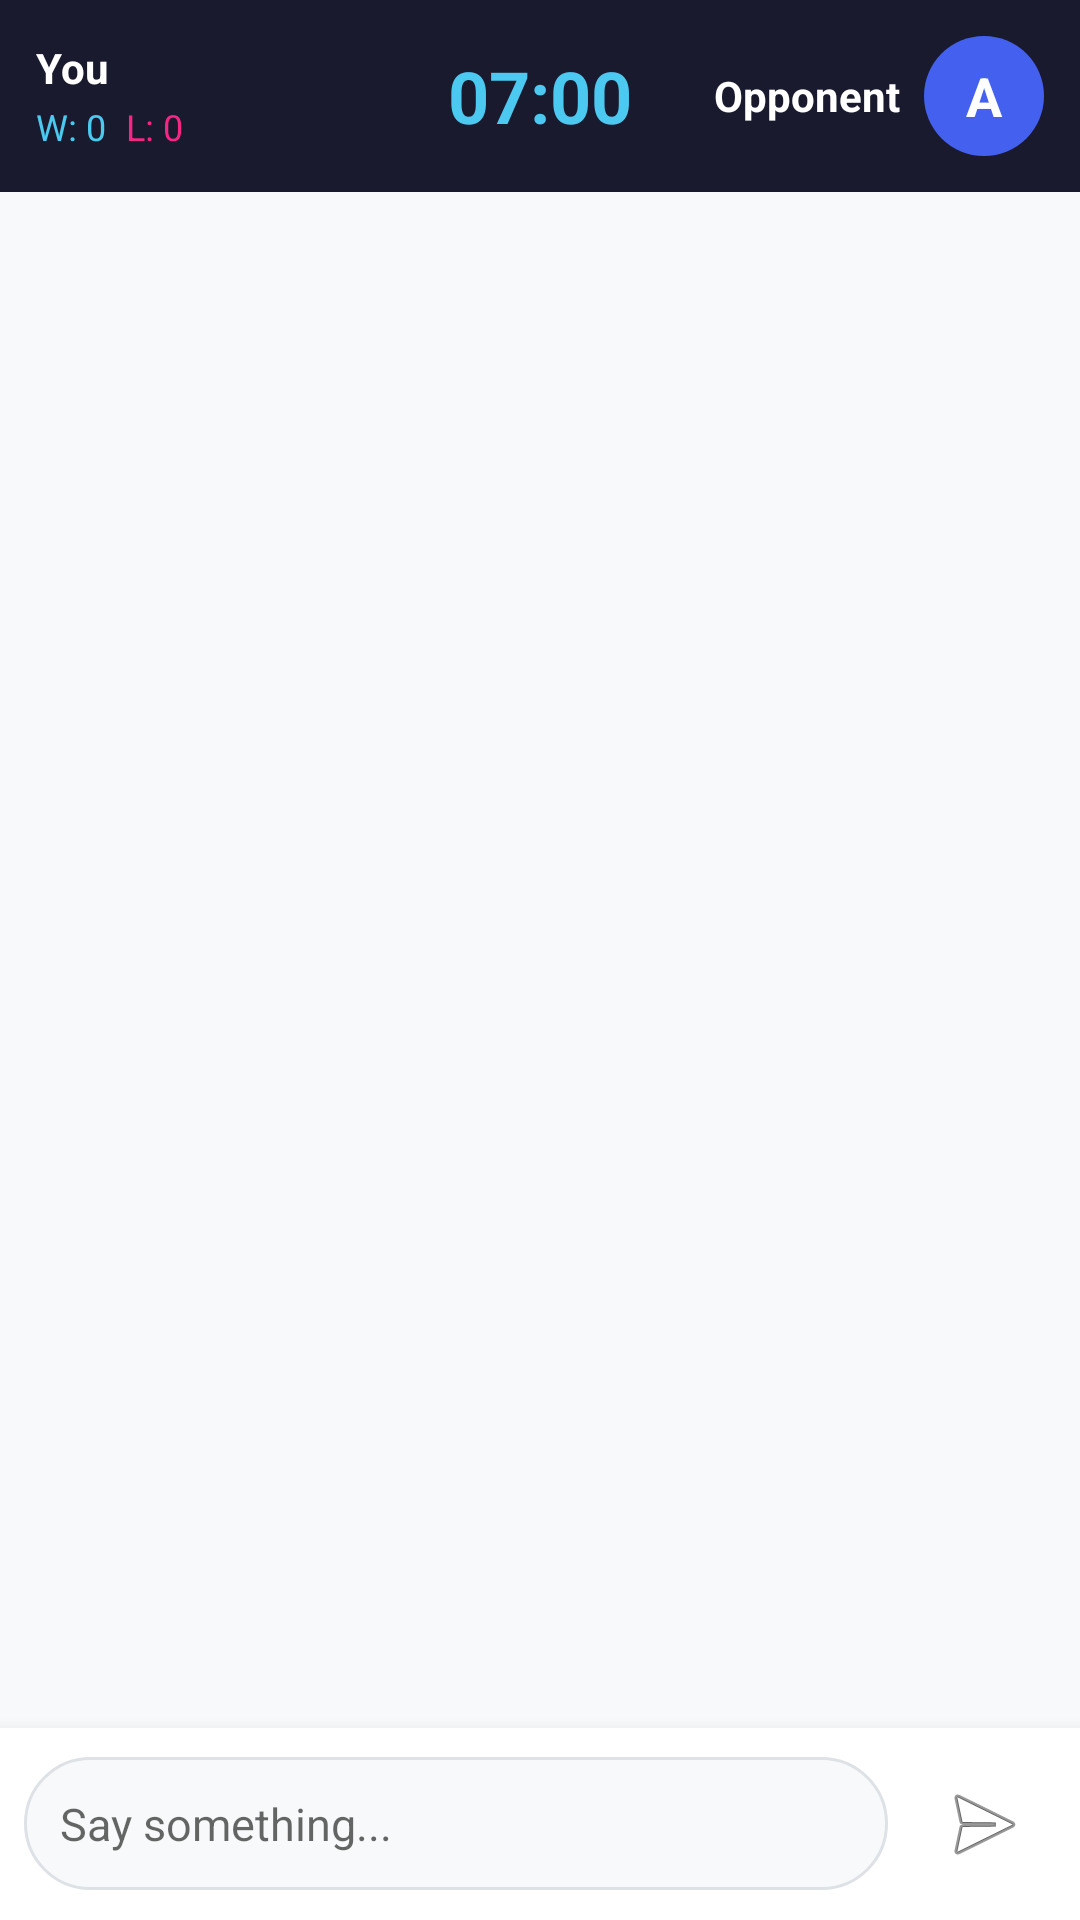

Named icons in this screenshot (1080*1920) and their bounding boxes, (x1, y1, x2, y2):
Send: (954, 1794, 1016, 1855)
